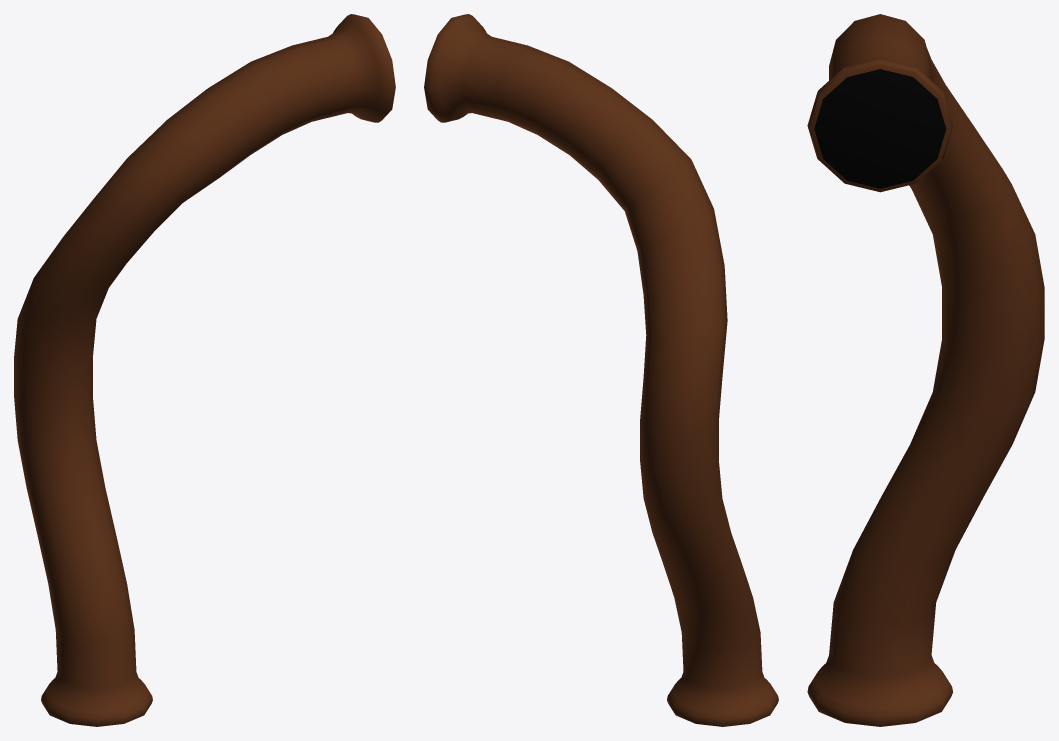
The model's file is Pipe_Curve_2x2_4m_Bent_L.fbx.
3 views of the same model, side by side, from view 1: azimuth 30°, elevation 25°; view 2: azimuth 150°, elevation 25°; view 3: azimuth 270°, elevation 25° (orthographic). The views are drawn at different scales.
Parts seen in each view (by area): view 1: Pipe_Curve_2x2_4m_Bent_L; view 2: Pipe_Curve_2x2_4m_Bent_L; view 3: Pipe_Curve_2x2_4m_Bent_L.
Part boxes in pixels (box(x1,y1,x2,y2)): Pipe_Curve_2x2_4m_Bent_L: box(14, 14, 395, 726); Pipe_Curve_2x2_4m_Bent_L: box(424, 14, 778, 726); Pipe_Curve_2x2_4m_Bent_L: box(807, 14, 1044, 726).
Size of the model in its own units: 236 by 436 by 116.
